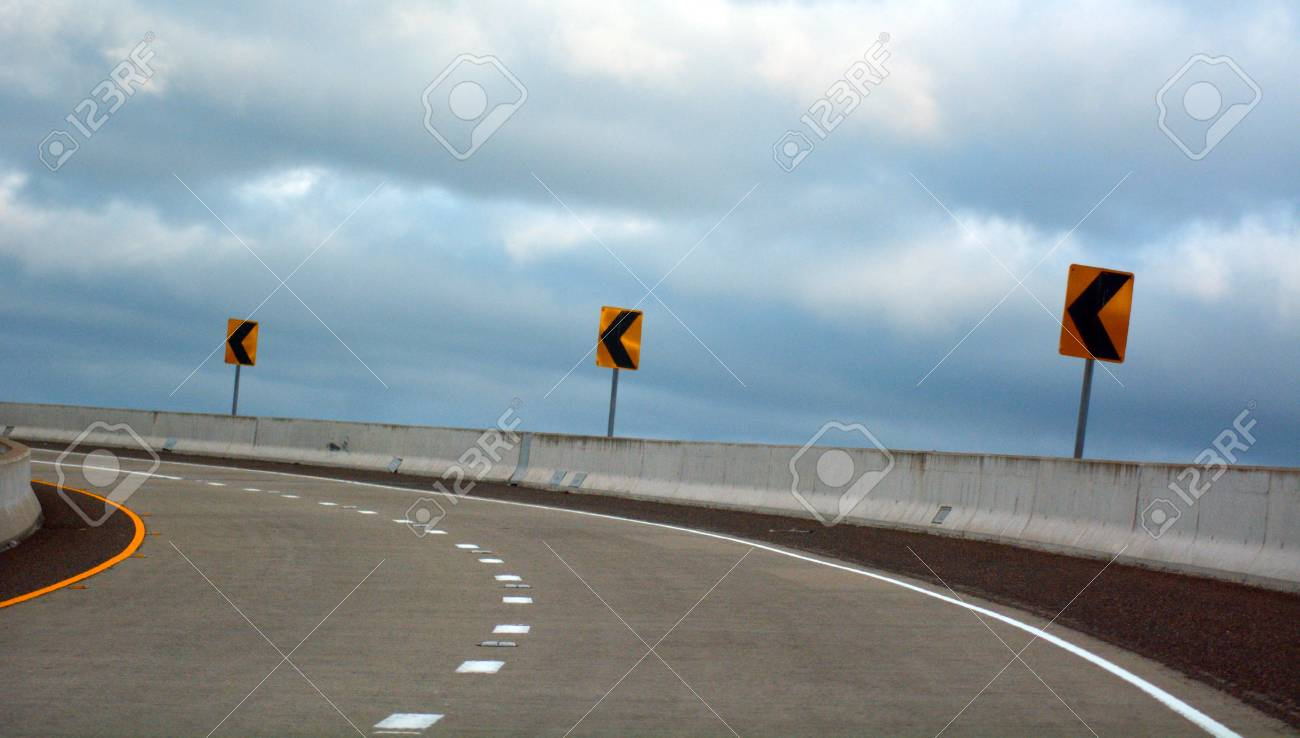leftTrun: (22, 391, 1159, 738)
